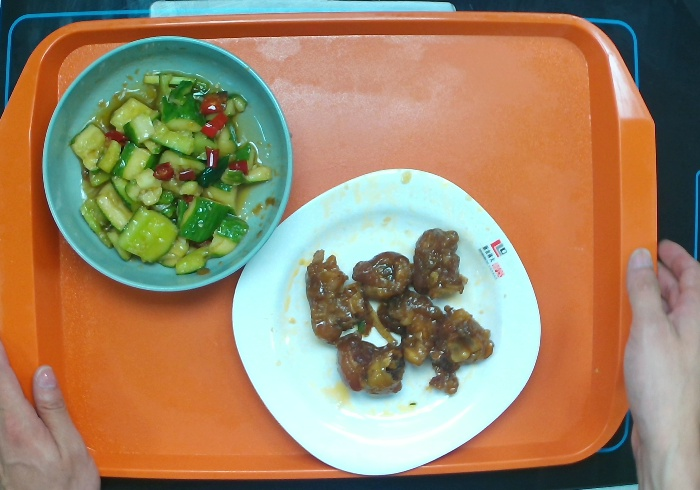ZNLD-Qing_Hua_Yuan_Wan: (41, 36, 296, 294)
ZNLD-Yuan_Jiao_Pan: (226, 166, 540, 481)
